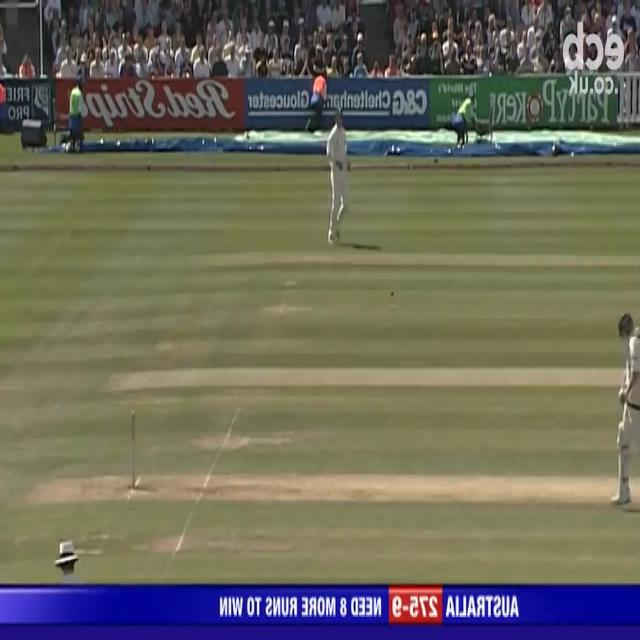ball: (386, 284, 398, 304)
